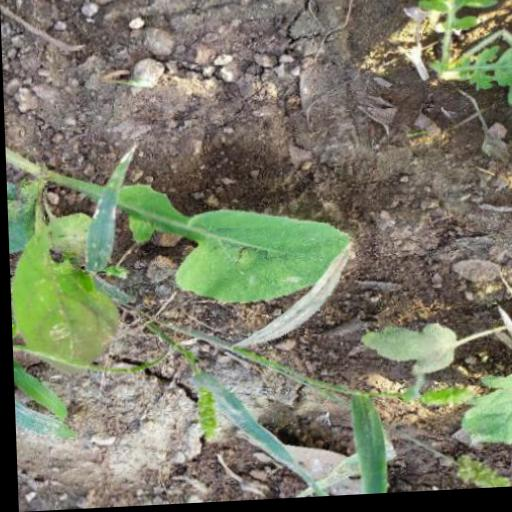weed: (3, 77, 382, 407), (386, 0, 512, 121)
